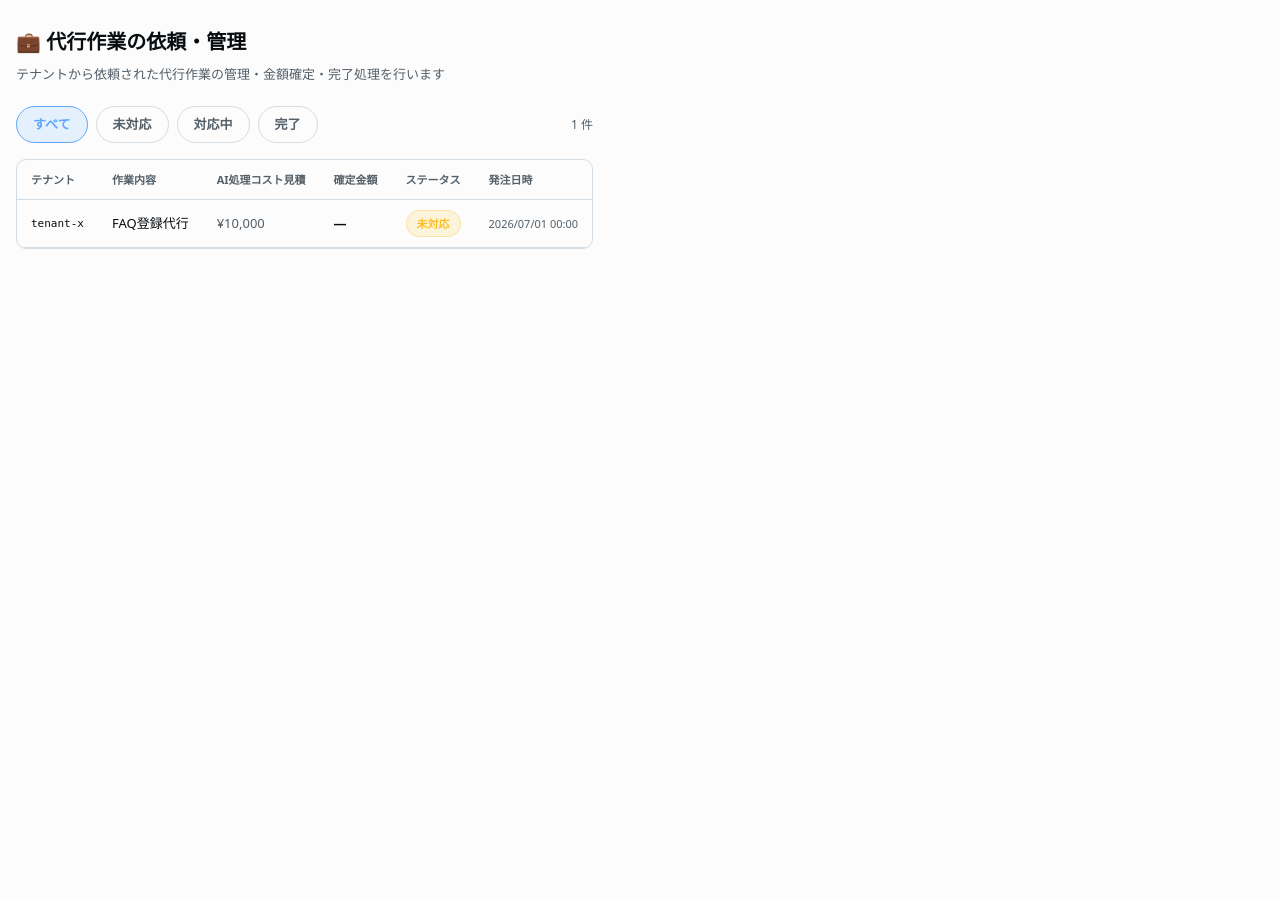
Test: OptionManagementPage — Sai(Agent S)セクション › 未試行の発注では「Saiに依頼する」ボタンが表示される
The image size is (1280, 900).
Click the text "FAQ登録代行": x=150, y=223 112,214 -> 189,232
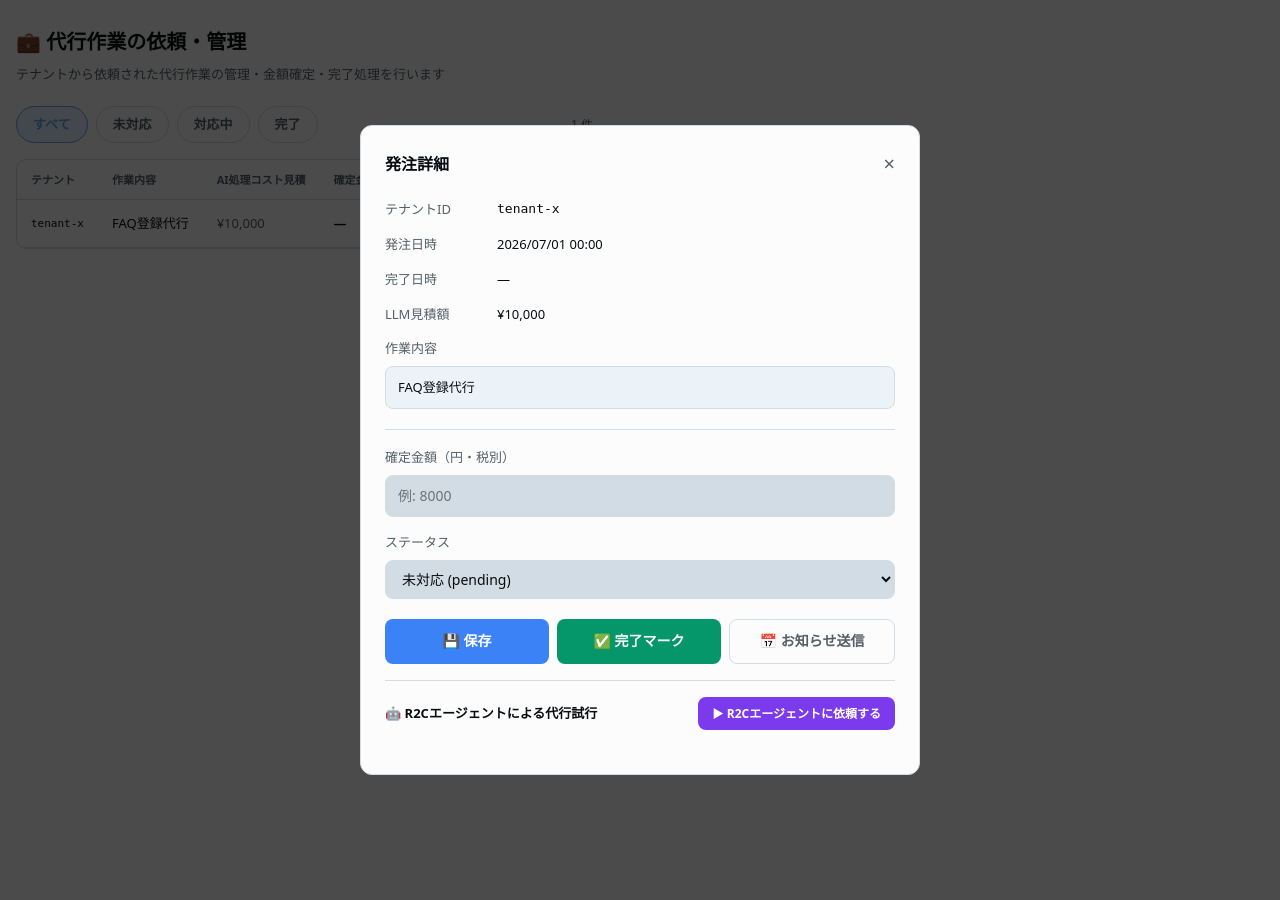
Now the button "▶ R2Cエージェントに依頼する" is shown, box 698,696 -> 895,730
